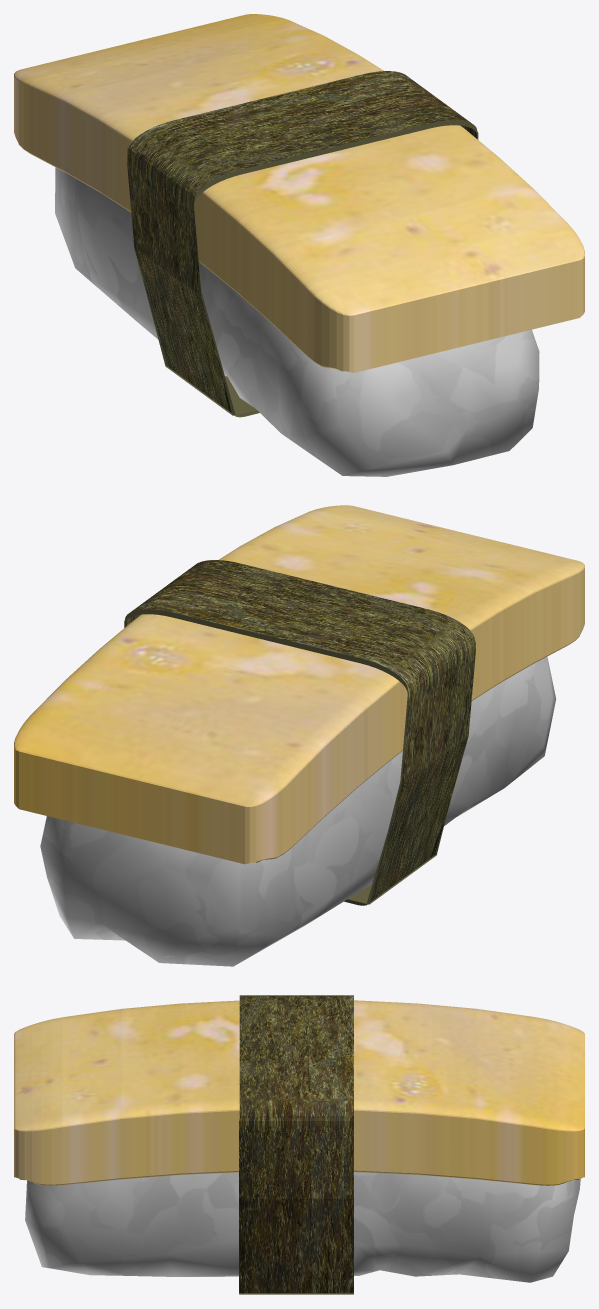
Rendered from _ggsushi.fbx.
3 views of the same model, one above another, from view 1: azimuth 30°, elevation 25°; view 2: azimuth 150°, elevation 25°; view 3: azimuth 270°, elevation 25° (orthographic). The views are drawn at different scales.
Visible parts, largest first — view 1: Cube.006, Riceball 4.009, Cube.007; view 2: Cube.006, Riceball 4.009, Cube.007; view 3: Cube.006, Riceball 4.009, Cube.007.
Part boxes in pixels (x1,y1,x2,y2): Cube.006: (14, 14, 584, 372); Riceball 4.009: (55, 167, 539, 476); Cube.007: (127, 71, 478, 417); Cube.006: (14, 505, 584, 864); Riceball 4.009: (40, 656, 555, 966); Cube.007: (124, 560, 475, 905); Cube.006: (14, 1000, 584, 1185); Riceball 4.009: (25, 1172, 580, 1282); Cube.007: (239, 995, 353, 1294).
Bounding box in the file's own units: 52.54 × 43.74 × 107.
3 materials, 3 textured.
